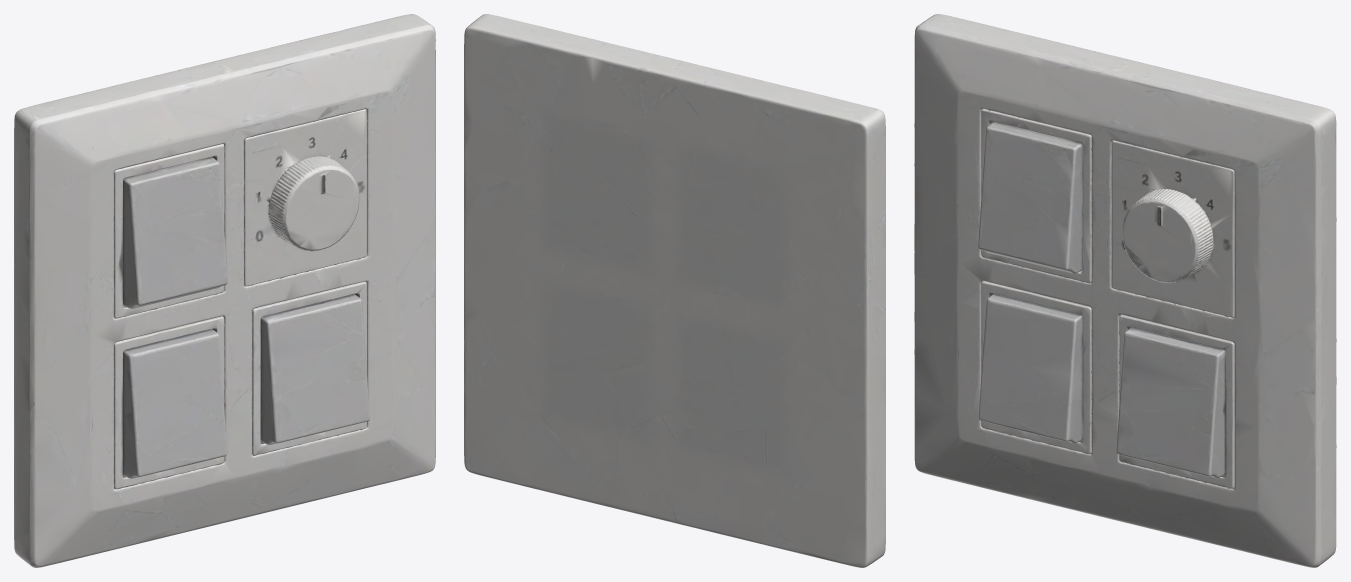
Rendered from switch-board-with-fan-regulator.glb.
3 views of the same model, side by side, from view 1: azimuth 30°, elevation 25°; view 2: azimuth 150°, elevation 25°; view 3: azimuth 330°, elevation 25° (orthographic).
Bounding box in the file's own units: 1.8 × 1.9 × 0.3239.
Materials: 1 (1 with a texture image).
